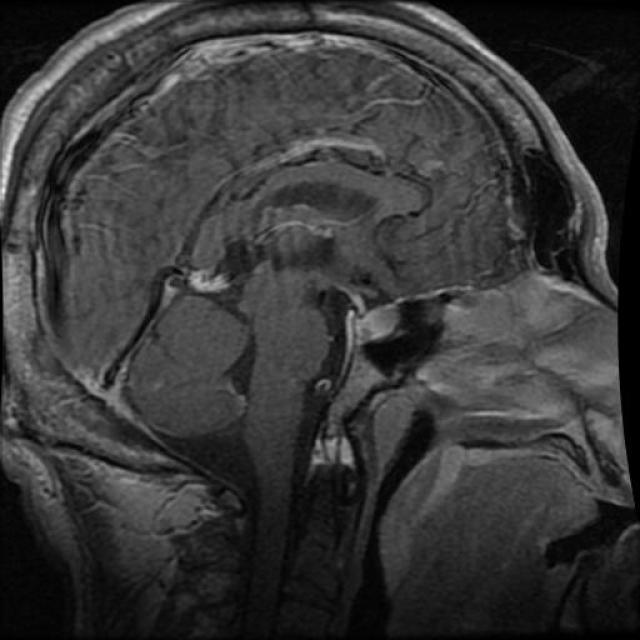pituitary: (324, 279, 412, 379)
